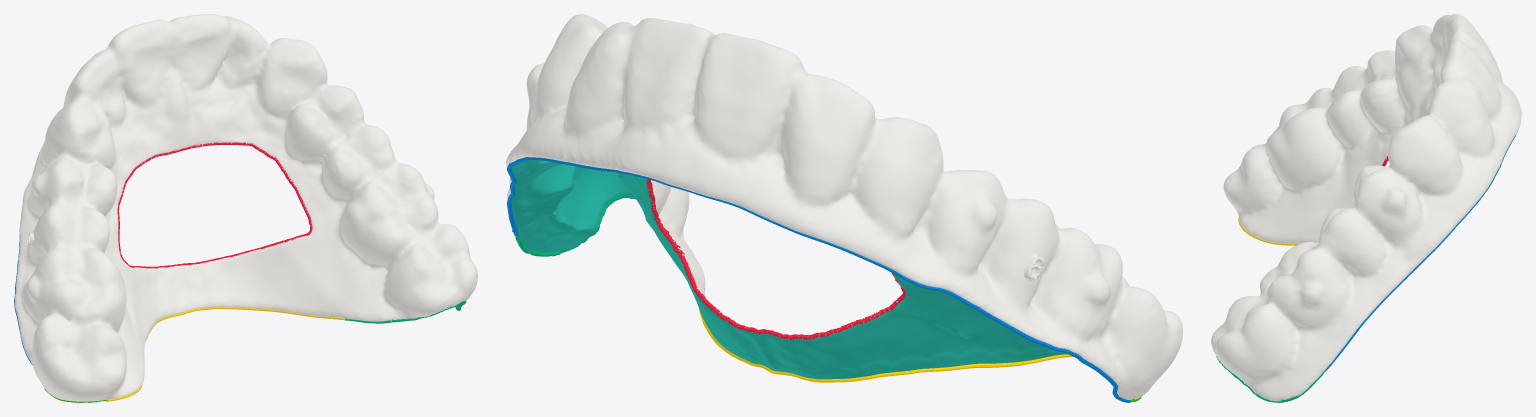
Rendered from support-area-review.glb.
3 views of the same model, side by side, from view 1: azimuth 30°, elevation 25°; view 2: azimuth 150°, elevation 25°; view 3: azimuth 270°, elevation 25° (orthographic). The views are drawn at different scales.
Visible parts, largest first — view 1: NEUTRAL: all other faces, no proposed contacts, RED: central projected opening silhouette loop candidate, YELLOW: smaller open partial sharp edge candidate; view 2: NEUTRAL: all other faces, no proposed contacts, TEAL: proposed support-contact faces — awaiting owner approv, BLUE: large open full-arch sharp edge candidate, RED: central projected opening silhouette loop candidate, YELLOW: smaller open partial sharp edge candidate; view 3: NEUTRAL: all other faces, no proposed contacts, BLUE: large open full-arch sharp edge candidate, GREEN 2: 20-degree shortest sharp-network connector candidat.
Boxes of the visible parts, box(x1,y1,x2,y2) form: NEUTRAL: all other faces, no proposed contacts: box(14, 14, 477, 401); RED: central projected opening silhouette loop candidate: box(117, 142, 312, 268); YELLOW: smaller open partial sharp edge candidate: box(107, 306, 347, 401); NEUTRAL: all other faces, no proposed contacts: box(506, 14, 1182, 399); TEAL: proposed support-contact faces — awaiting owner approv: box(511, 160, 1067, 379); BLUE: large open full-arch sharp edge candidate: box(507, 157, 1130, 402); RED: central projected opening silhouette loop candidate: box(646, 179, 906, 340); YELLOW: smaller open partial sharp edge candidate: box(699, 309, 1073, 382); NEUTRAL: all other faces, no proposed contacts: box(1211, 14, 1521, 401); BLUE: large open full-arch sharp edge candidate: box(1325, 135, 1515, 370); GREEN 2: 20-degree shortest sharp-network connector candidat: box(1216, 356, 1326, 402).
Bounding box in the file's own units: 67.85 × 40.77 × 42.41.
